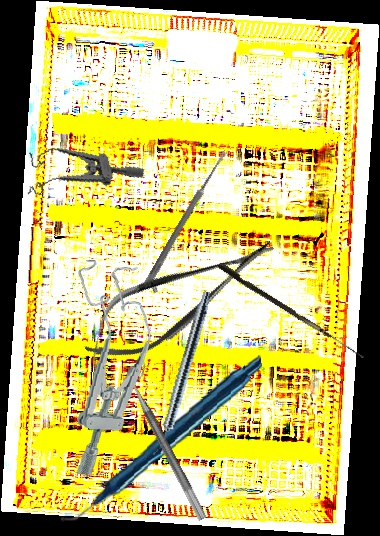Fixation Ring: (121, 359, 220, 522)
Handpiece: (50, 355, 272, 522), (150, 289, 214, 459)
Hook Surgical: (215, 262, 369, 359)
Micro Scissor: (69, 218, 290, 379)
Speculum: (59, 258, 159, 480), (17, 126, 146, 206)
Surgical Spoon: (143, 148, 229, 288)
